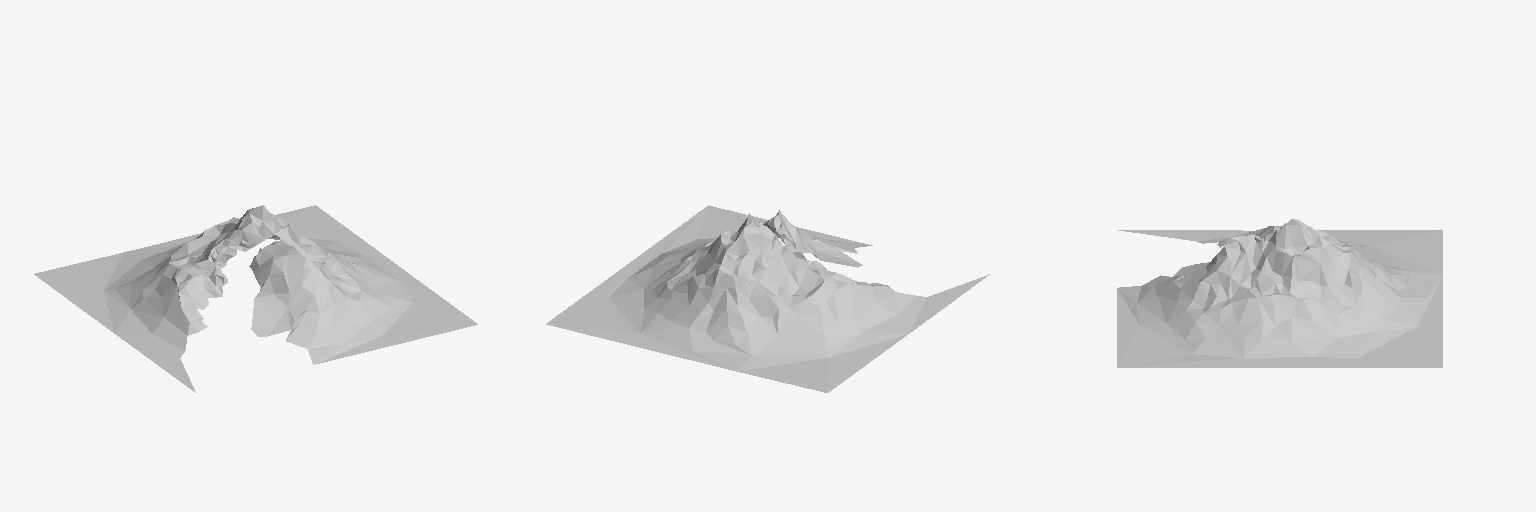
The model's file is m_noslope.obj.
3 views of the same model, side by side, from view 1: azimuth 30°, elevation 25°; view 2: azimuth 150°, elevation 25°; view 3: azimuth 270°, elevation 25° (orthographic).
Visible parts, largest first — view 1: Landscape.001; view 2: Landscape.001; view 3: Landscape.001.
Boxes of the visible parts, x1=… form: Landscape.001: x1=34, y1=205, x2=477, y2=392; Landscape.001: x1=546, y1=205, x2=989, y2=392; Landscape.001: x1=1117, y1=219, x2=1442, y2=367.
Bounding box in the file's own units: 54 × 15.97 × 54.